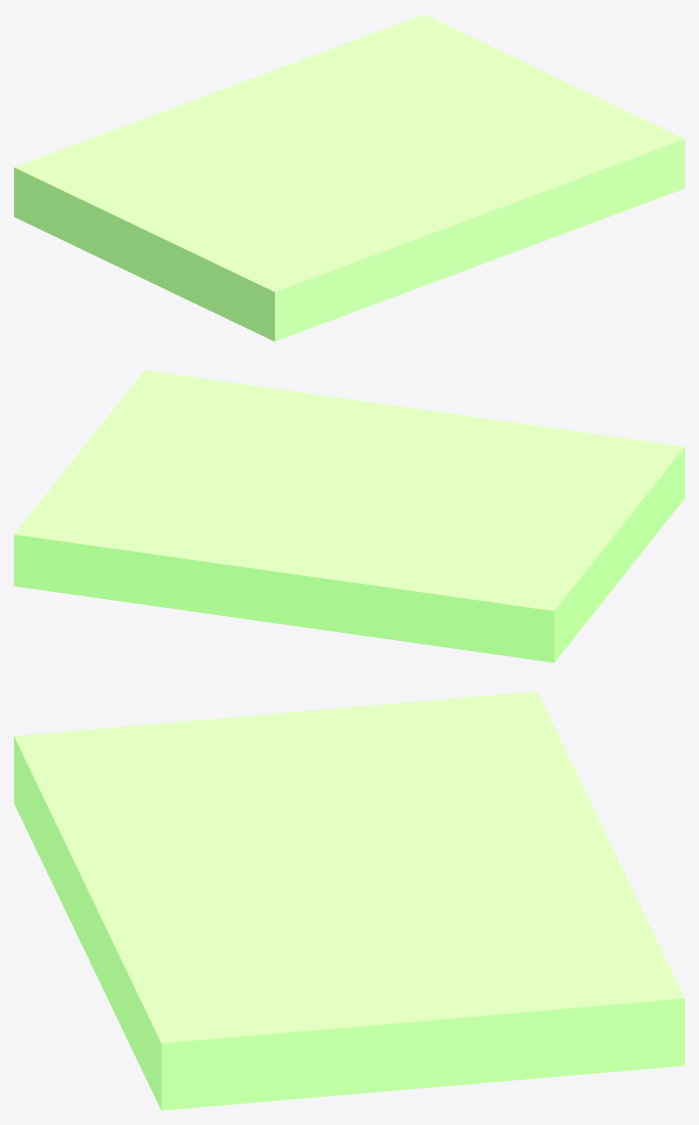
Rendered from approach-stone-4.glb.
The picture shows the model from 3 angles, top to bottom: view 1: azimuth 30°, elevation 25°; view 2: azimuth 150°, elevation 25°; view 3: azimuth 270°, elevation 25°; orthographic projection. The views are drawn at different scales.
Visible parts, largest first — view 1: Approach Stone 4; view 2: Approach Stone 4; view 3: Approach Stone 4.
Boxes of the visible parts, left/top/right/bottom form: Approach Stone 4: left=14, top=14, right=684, bottom=341; Approach Stone 4: left=14, top=370, right=684, bottom=662; Approach Stone 4: left=14, top=691, right=684, bottom=1110.
Size of the model in its own units: 11.23 by 1 by 9.04.
